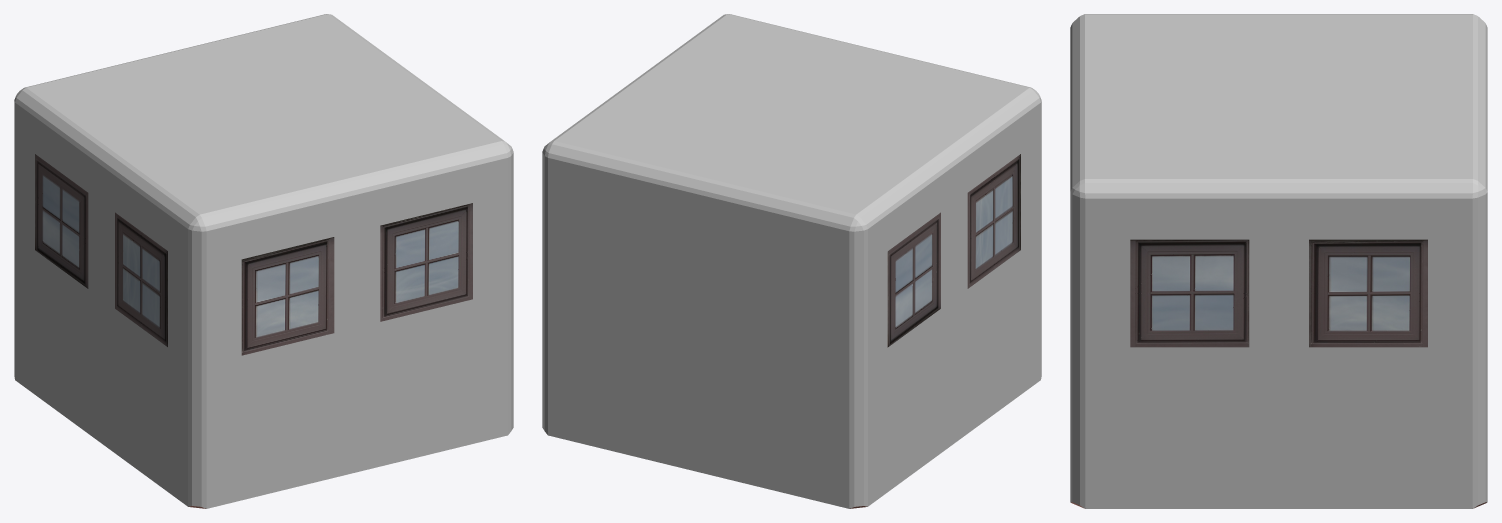
File: bridgehillhouse.fbx
The picture shows the model from 3 angles, left to right: view 1: azimuth 30°, elevation 25°; view 2: azimuth 150°, elevation 25°; view 3: azimuth 270°, elevation 25°; orthographic projection. The views are drawn at different scales.
Parts seen in each view (by area): view 1: Cube; view 2: Cube; view 3: Cube.
Part boxes in pixels (left/top/right/bottom): Cube: left=14, top=14, right=513, bottom=508; Cube: left=542, top=14, right=1041, bottom=508; Cube: left=1070, top=14, right=1487, bottom=508.
Size of the model in its own units: 1405 by 1197 by 1399.
